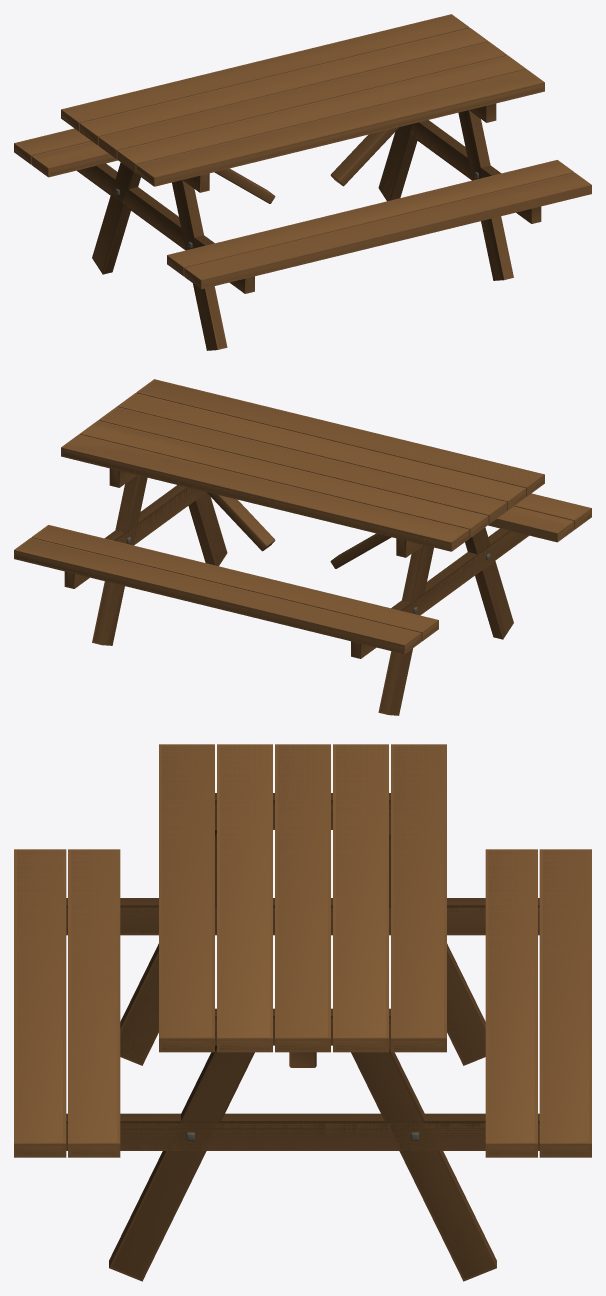
The model's file is mesa_picnic.glb.
3 views of the same model, one above another, from view 1: azimuth 30°, elevation 25°; view 2: azimuth 150°, elevation 25°; view 3: azimuth 270°, elevation 25° (orthographic). The views are drawn at different scales.
Parts seen in each view (by area): view 1: lo, hd; view 2: lo, hd; view 3: hd, lo.
Boxes of the visible parts, x1,y1,x2,y2 form: lo: (14, 14, 591, 350); hd: (15, 15, 588, 347); lo: (14, 379, 591, 715); hd: (15, 380, 590, 713); hd: (17, 745, 588, 1278); lo: (14, 744, 591, 1281).
Size of the model in its own units: 1.8 by 0.7956 by 1.5.
